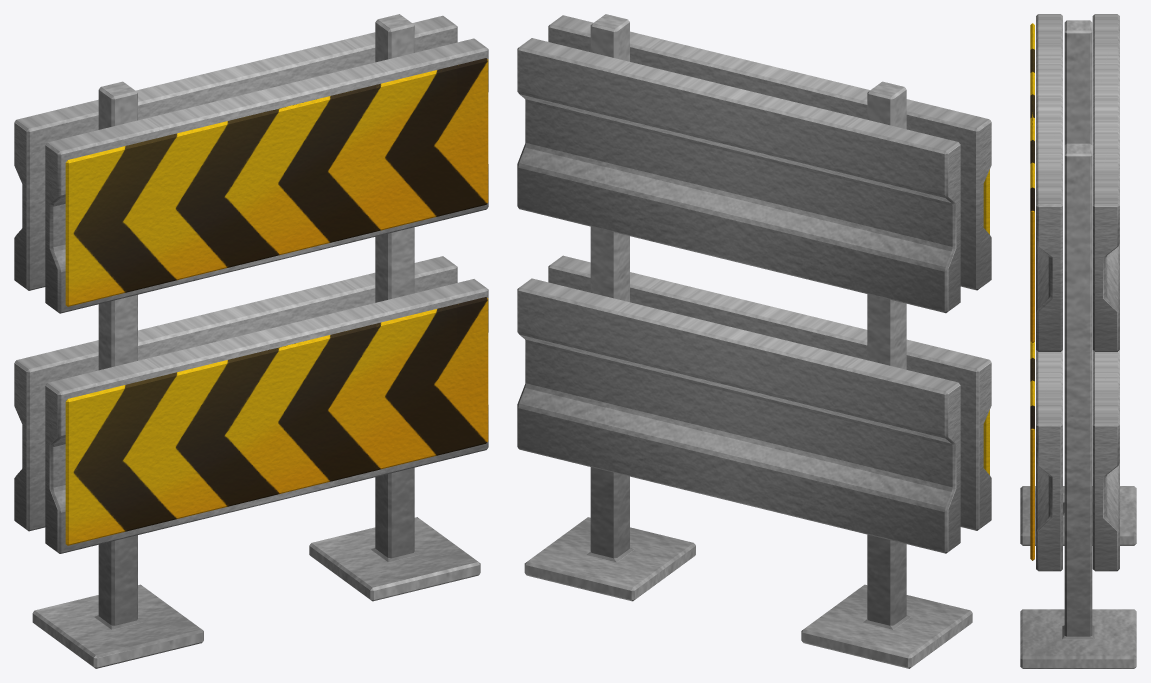
File: Barrier_Short_Left.fbx
The picture shows the model from 3 angles, left to right: view 1: azimuth 30°, elevation 25°; view 2: azimuth 150°, elevation 25°; view 3: azimuth 270°, elevation 25°; orthographic projection. The views are drawn at different scales.
Visible parts, largest first — view 1: Barrier_Short_Left; view 2: Barrier_Short_Left; view 3: Barrier_Short_Left.
Part boxes in pixels (bbox=[...]): Barrier_Short_Left: bbox=[14, 14, 488, 668]; Barrier_Short_Left: bbox=[517, 14, 991, 668]; Barrier_Short_Left: bbox=[1020, 14, 1136, 668].
Bounding box in the file's own units: 48.1 × 58.1 × 12.31.
Materials: 2 (2 with a texture image).
